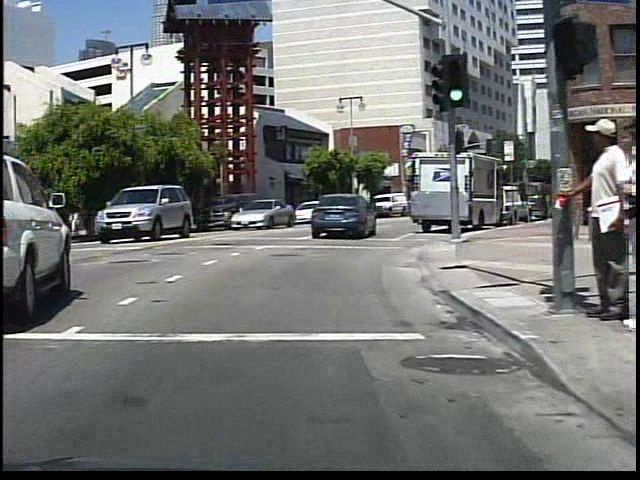person: (561, 112, 620, 322)
